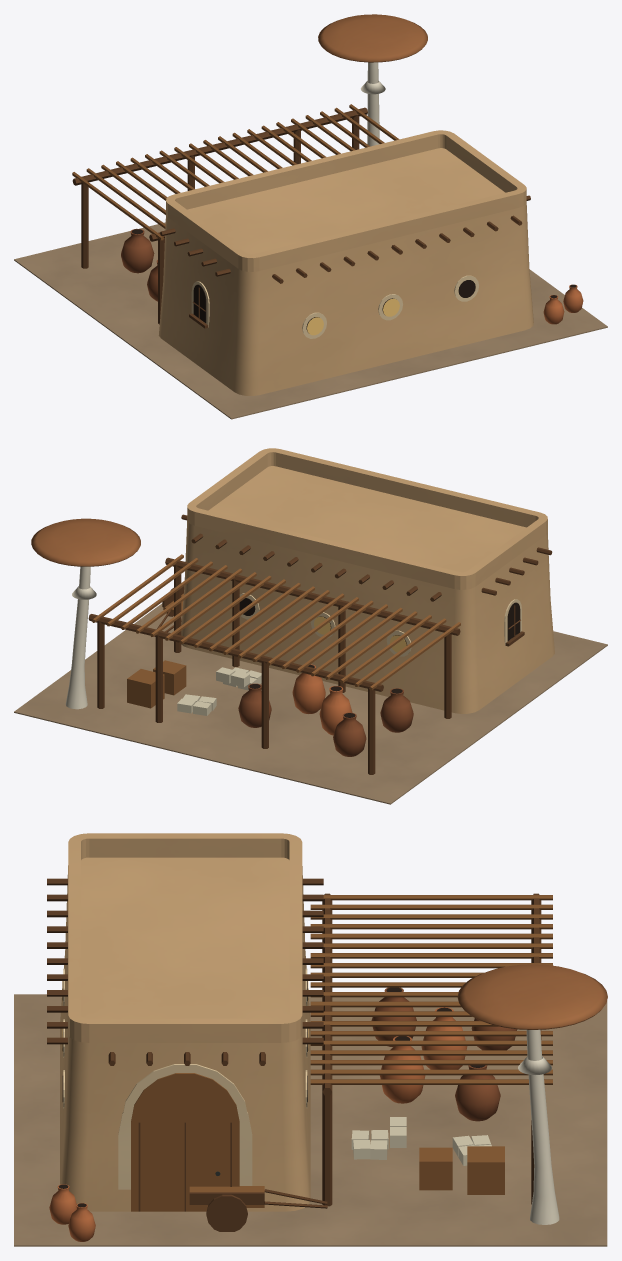
File: hl_sklad.glb
The picture shows the model from 3 angles, top to bottom: view 1: azimuth 30°, elevation 25°; view 2: azimuth 150°, elevation 25°; view 3: azimuth 270°, elevation 25°; orthographic projection. The views are drawn at different scales.
Visible parts, largest first — view 1: dum; view 2: dum; view 3: dum.
Boxes of the visible parts, bbox=[...] form: dum: bbox=[14, 14, 607, 419]; dum: bbox=[14, 448, 607, 804]; dum: bbox=[14, 833, 607, 1246].
Bounding box in the file's own units: 14.27 × 6.04 × 14.18.
1 material, 1 textured.
